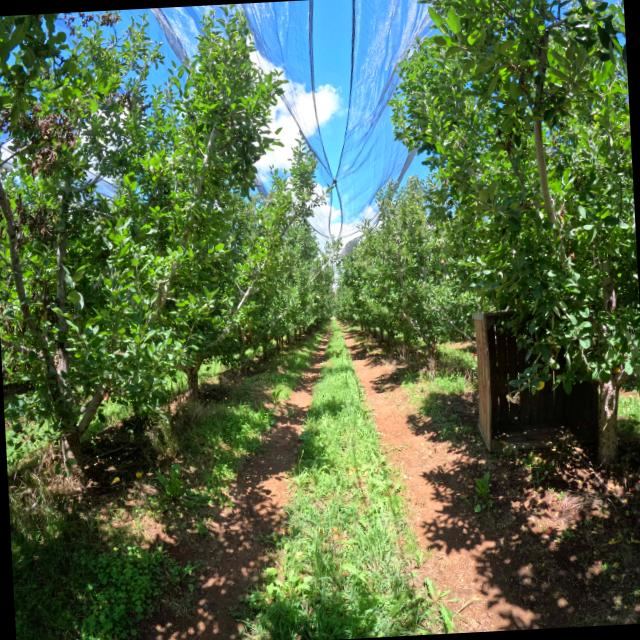-FireBlight-: (15, 101, 81, 180), (12, 192, 63, 251)
